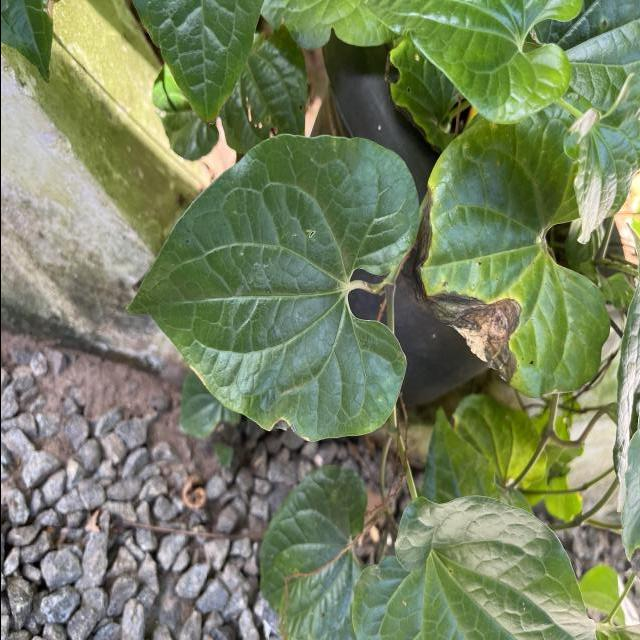Piper longum: (121, 130, 422, 448)
